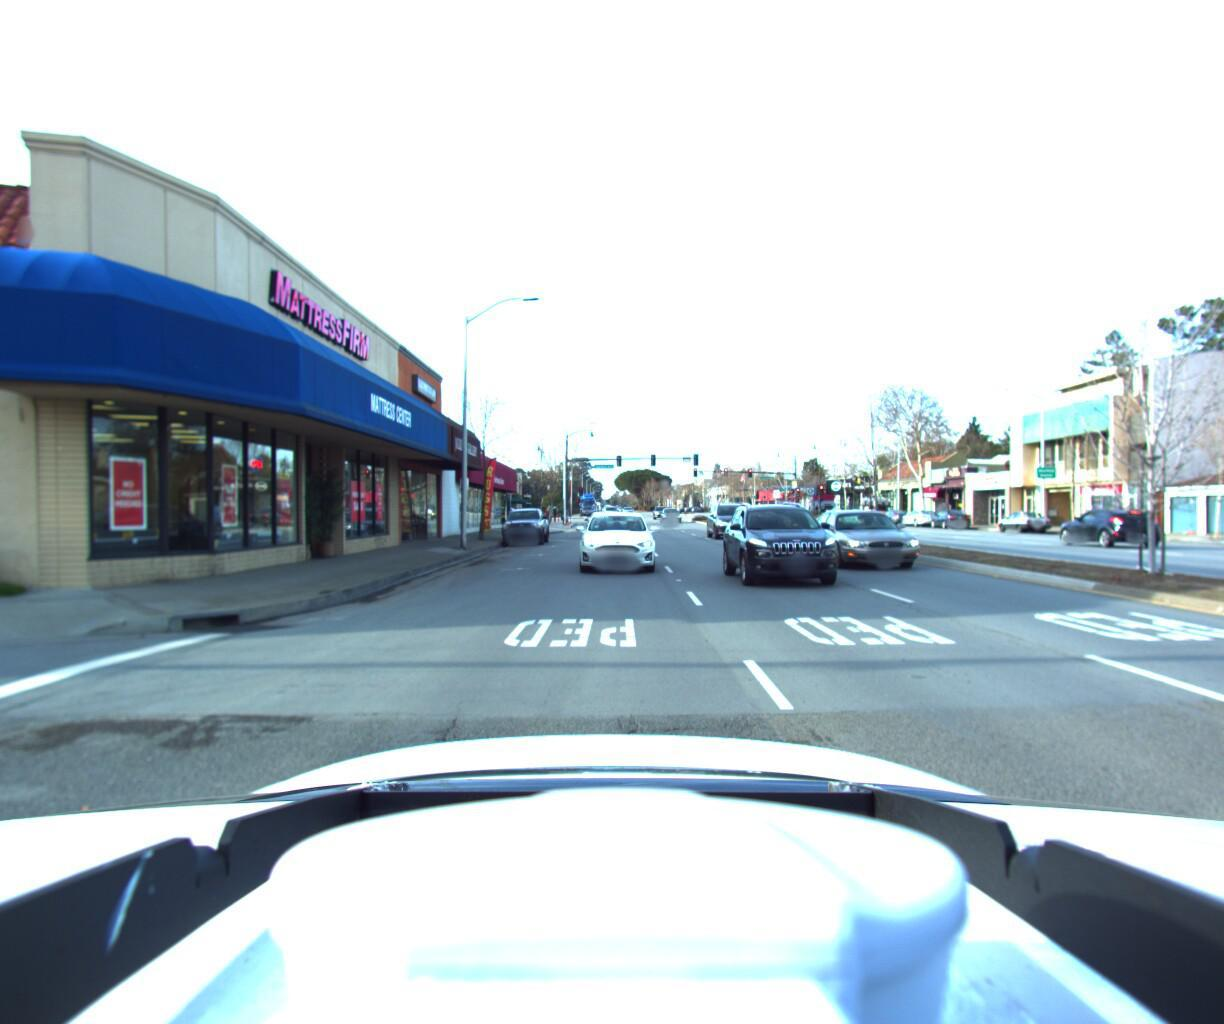car: (719, 496, 869, 596), (807, 504, 947, 576), (575, 503, 659, 573), (1037, 502, 1152, 547), (706, 502, 760, 542), (496, 508, 548, 549), (993, 511, 1054, 536), (855, 492, 895, 525), (925, 510, 971, 530), (897, 510, 941, 528), (662, 507, 687, 523)
